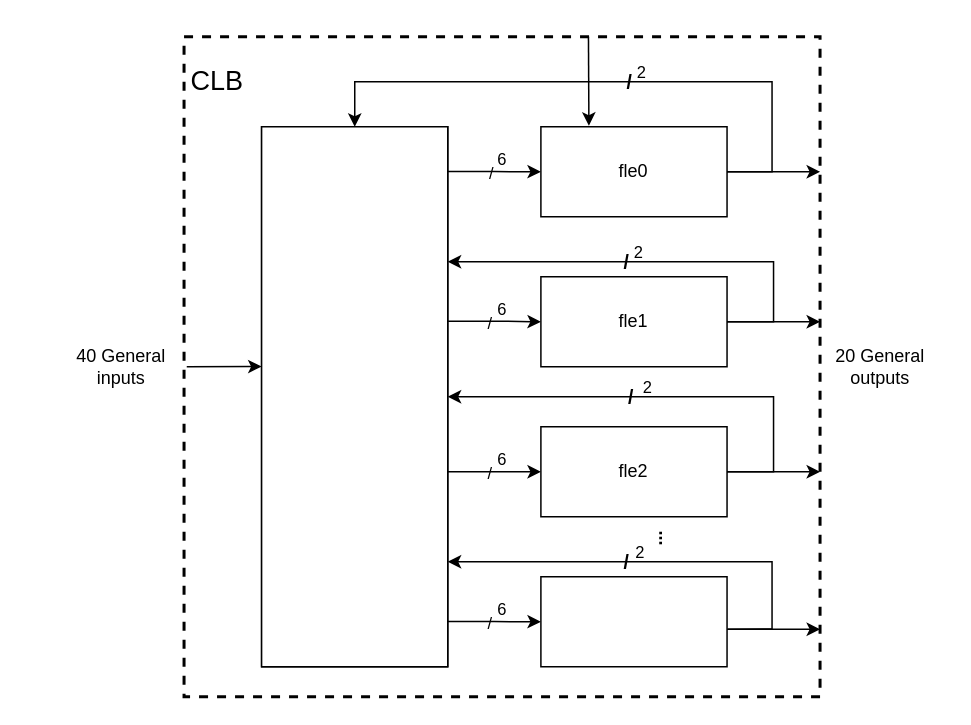
Some shapes in this 971 by 725 pixel diagram are drawn without their labels. Each missing label, with the centre of its shape:
"fle9" belongs at (x=633, y=621).
"full crossbar 60x60 40 external inputs 20 feedback lines 60 fle outputs" belongs at (x=354, y=396).
